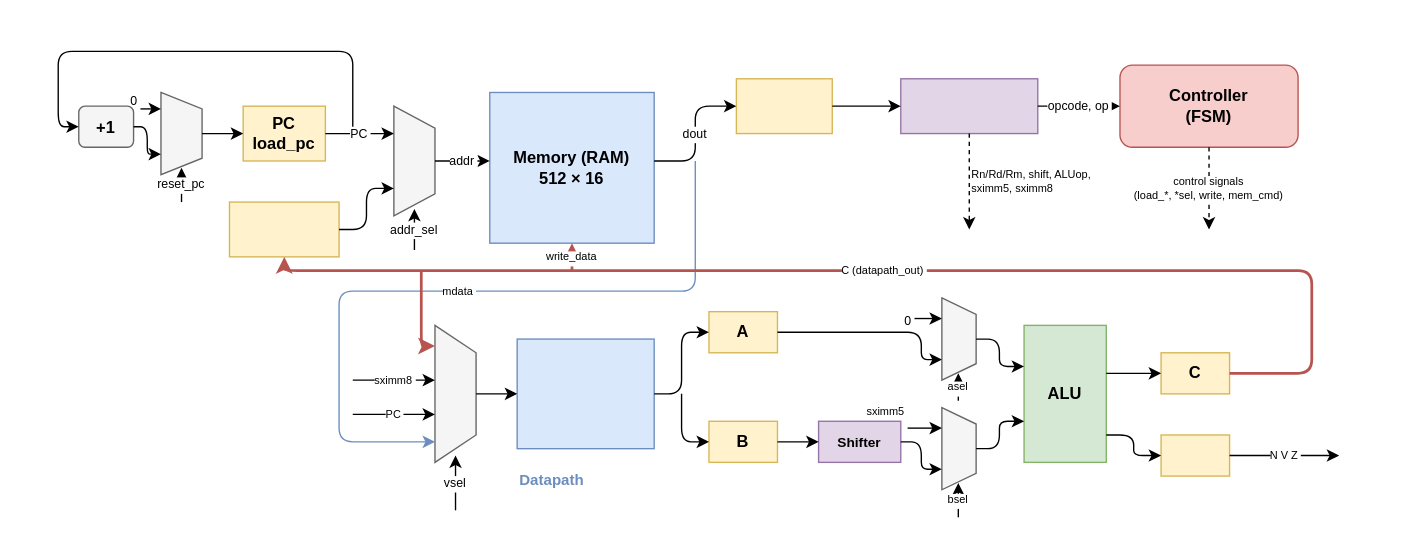
The diagram is 1403 pixels wide and 553 high, and some of its shapes have lost their labels. The box of each missing label's shape, as (x1, y1, x2, y2) in pixels:
Data address load_addr: (228, 201, 339, 257)
Decoder: (899, 77, 1038, 134)
IR load_ir: (735, 77, 832, 134)
Register file R0–R7: (516, 338, 654, 449)
Status: (1160, 434, 1230, 476)
